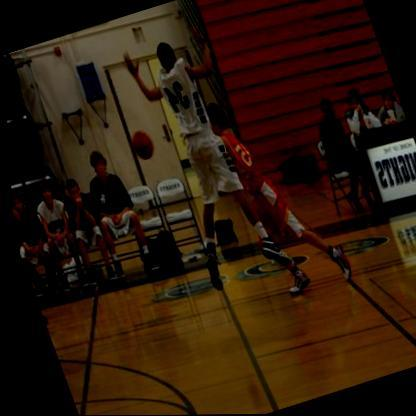basketball: (123, 127, 158, 164)
